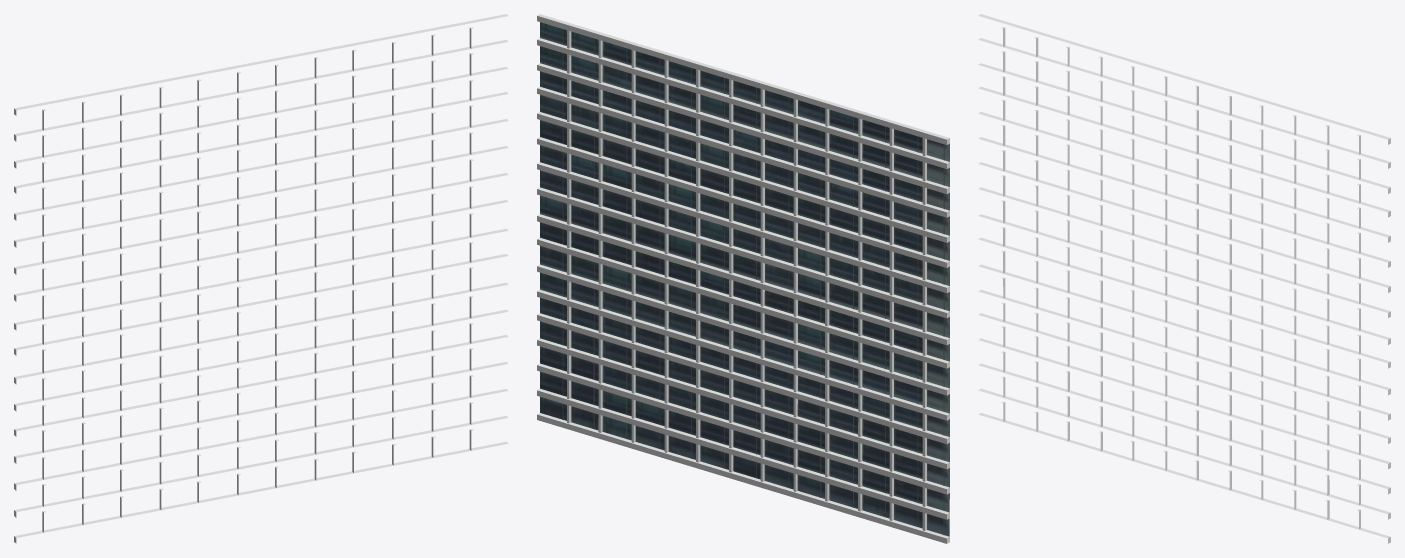
3 views of the same model, side by side, from view 1: azimuth 30°, elevation 25°; view 2: azimuth 150°, elevation 25°; view 3: azimuth 330°, elevation 25° (orthographic). The views are drawn at different scales.
Parts seen in each view (by area): view 1: Mandarin Oriental balcony fascia; view 2: Mandarin Oriental guestroom glass, Mandarin Oriental balcony fascia, Mandarin Oriental dark sash; view 3: Mandarin Oriental balcony fascia.
Boxes of the visible parts, left/top/right/bottom form: Mandarin Oriental balcony fascia: left=14, top=14, right=508, bottom=543; Mandarin Oriental guestroom glass: left=540, top=22, right=949, bottom=536; Mandarin Oriental balcony fascia: left=537, top=14, right=949, bottom=543; Mandarin Oriental dark sash: left=562, top=29, right=944, bottom=534; Mandarin Oriental balcony fascia: left=978, top=14, right=1390, bottom=543.
Bounding box in the file's own units: 54.22 × 48.15 × 5.87.
3 materials, 1 textured.
